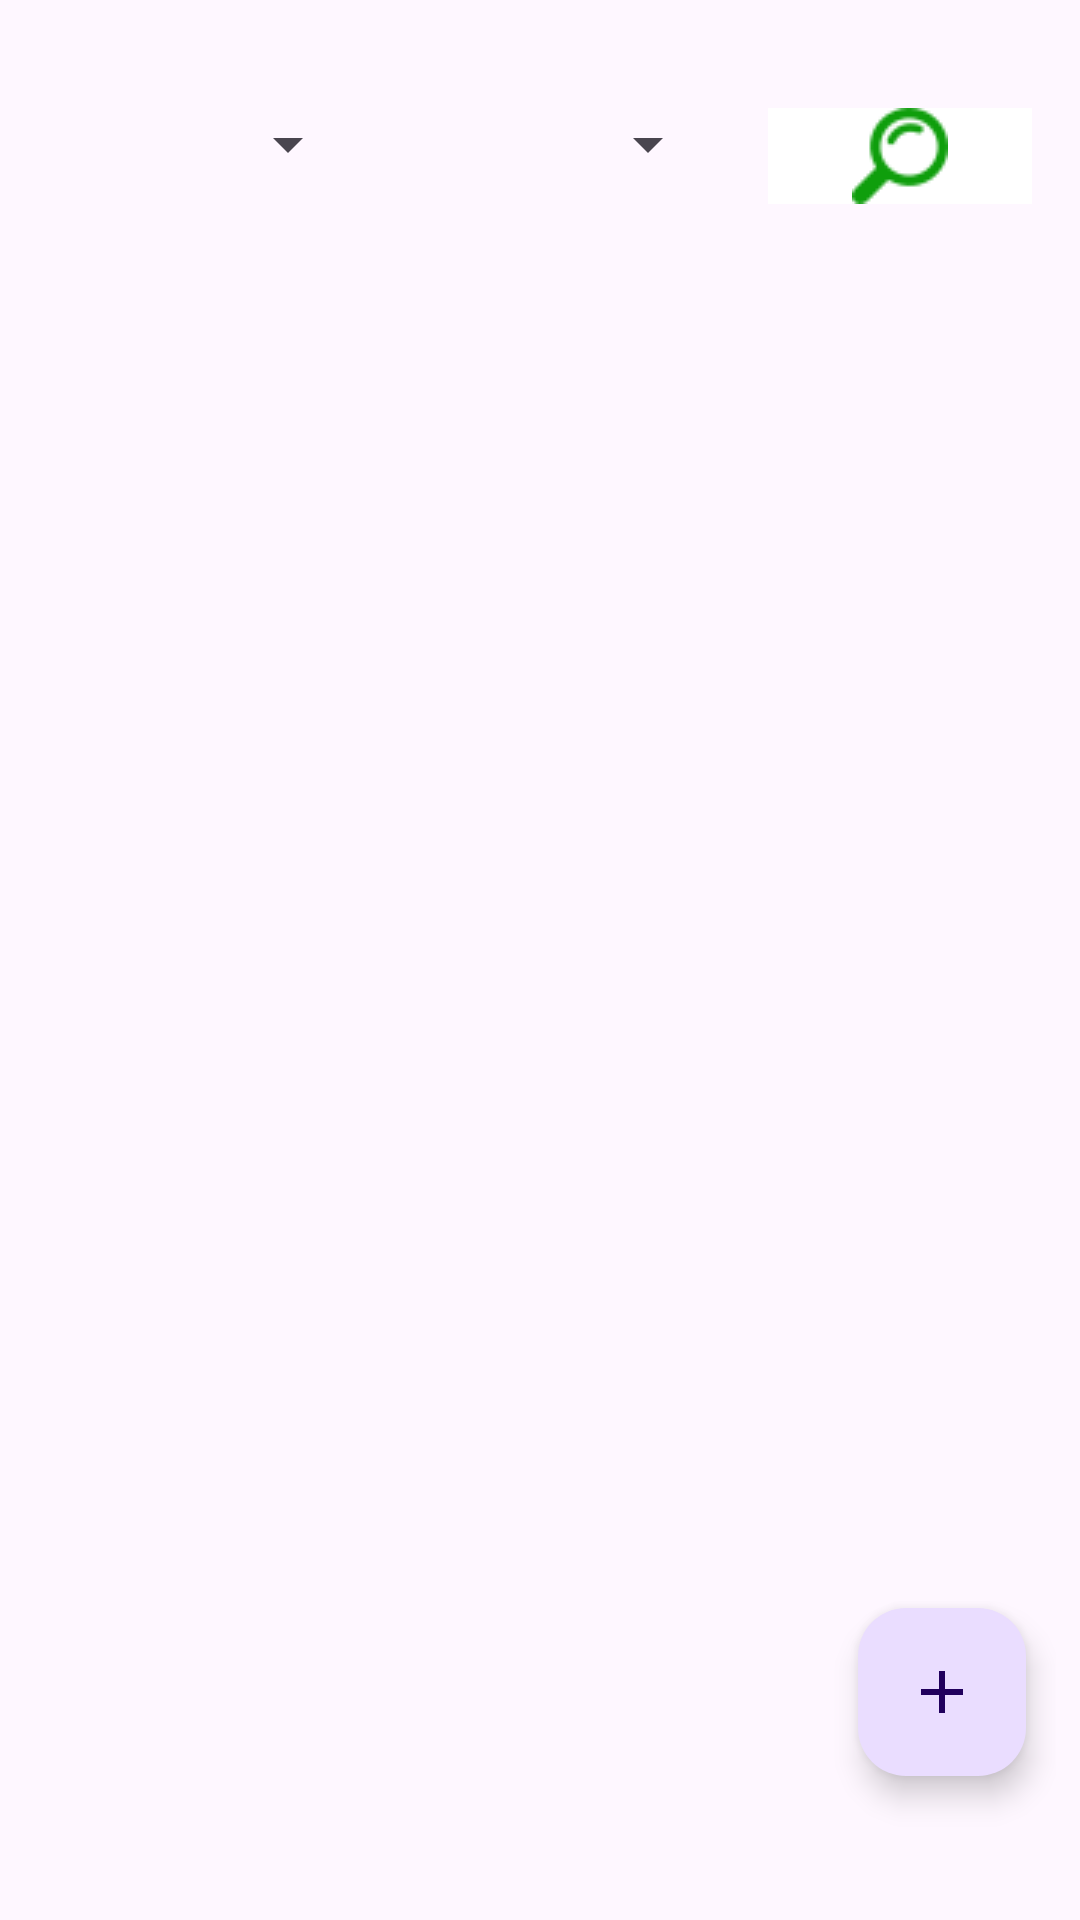

Point at icon controls on the screen. Image size 1080px×1920px, points as [x,y].
add: [942,1692]
search: [900,156]
